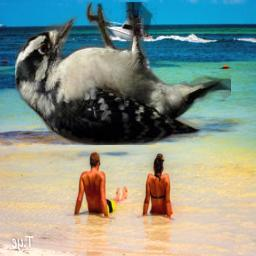Woodpecker: (15, 2, 231, 145)
